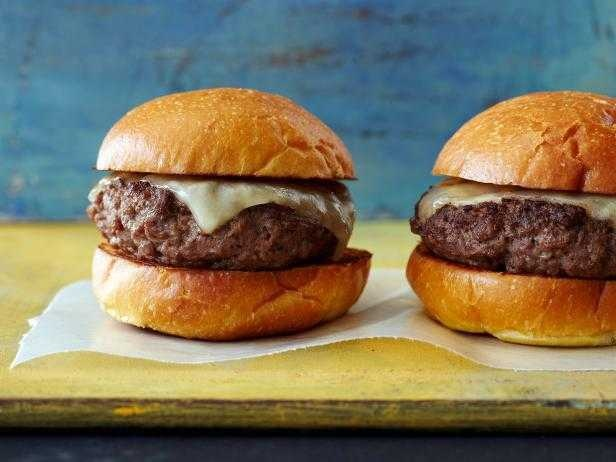hamburger: (78, 81, 358, 337), (415, 66, 616, 352)
